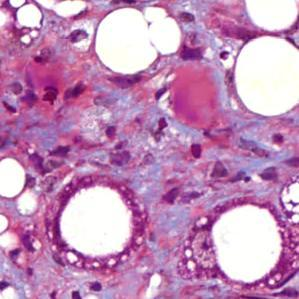steatosis: (53, 184, 142, 260), (210, 203, 287, 283)
